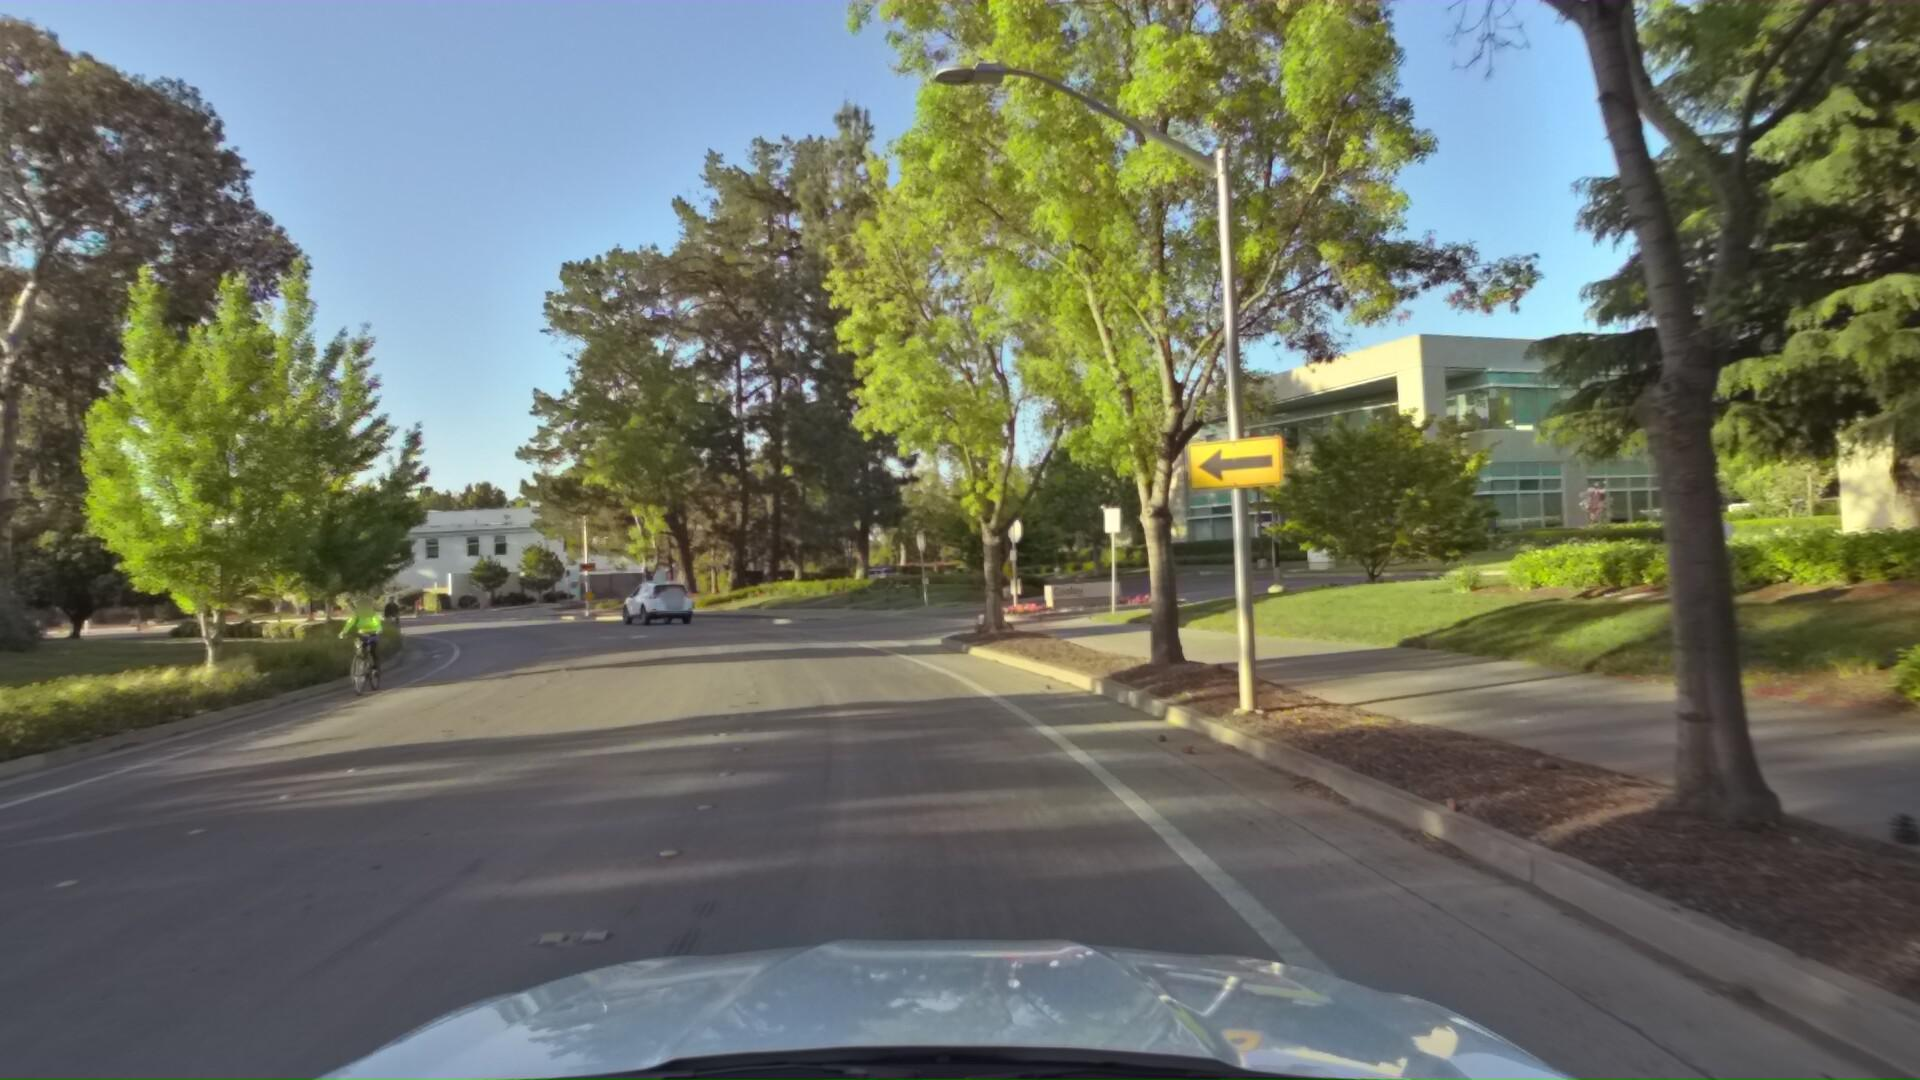bicycle: (307, 589, 390, 709), (375, 593, 406, 644)
car: (609, 580, 695, 633)
